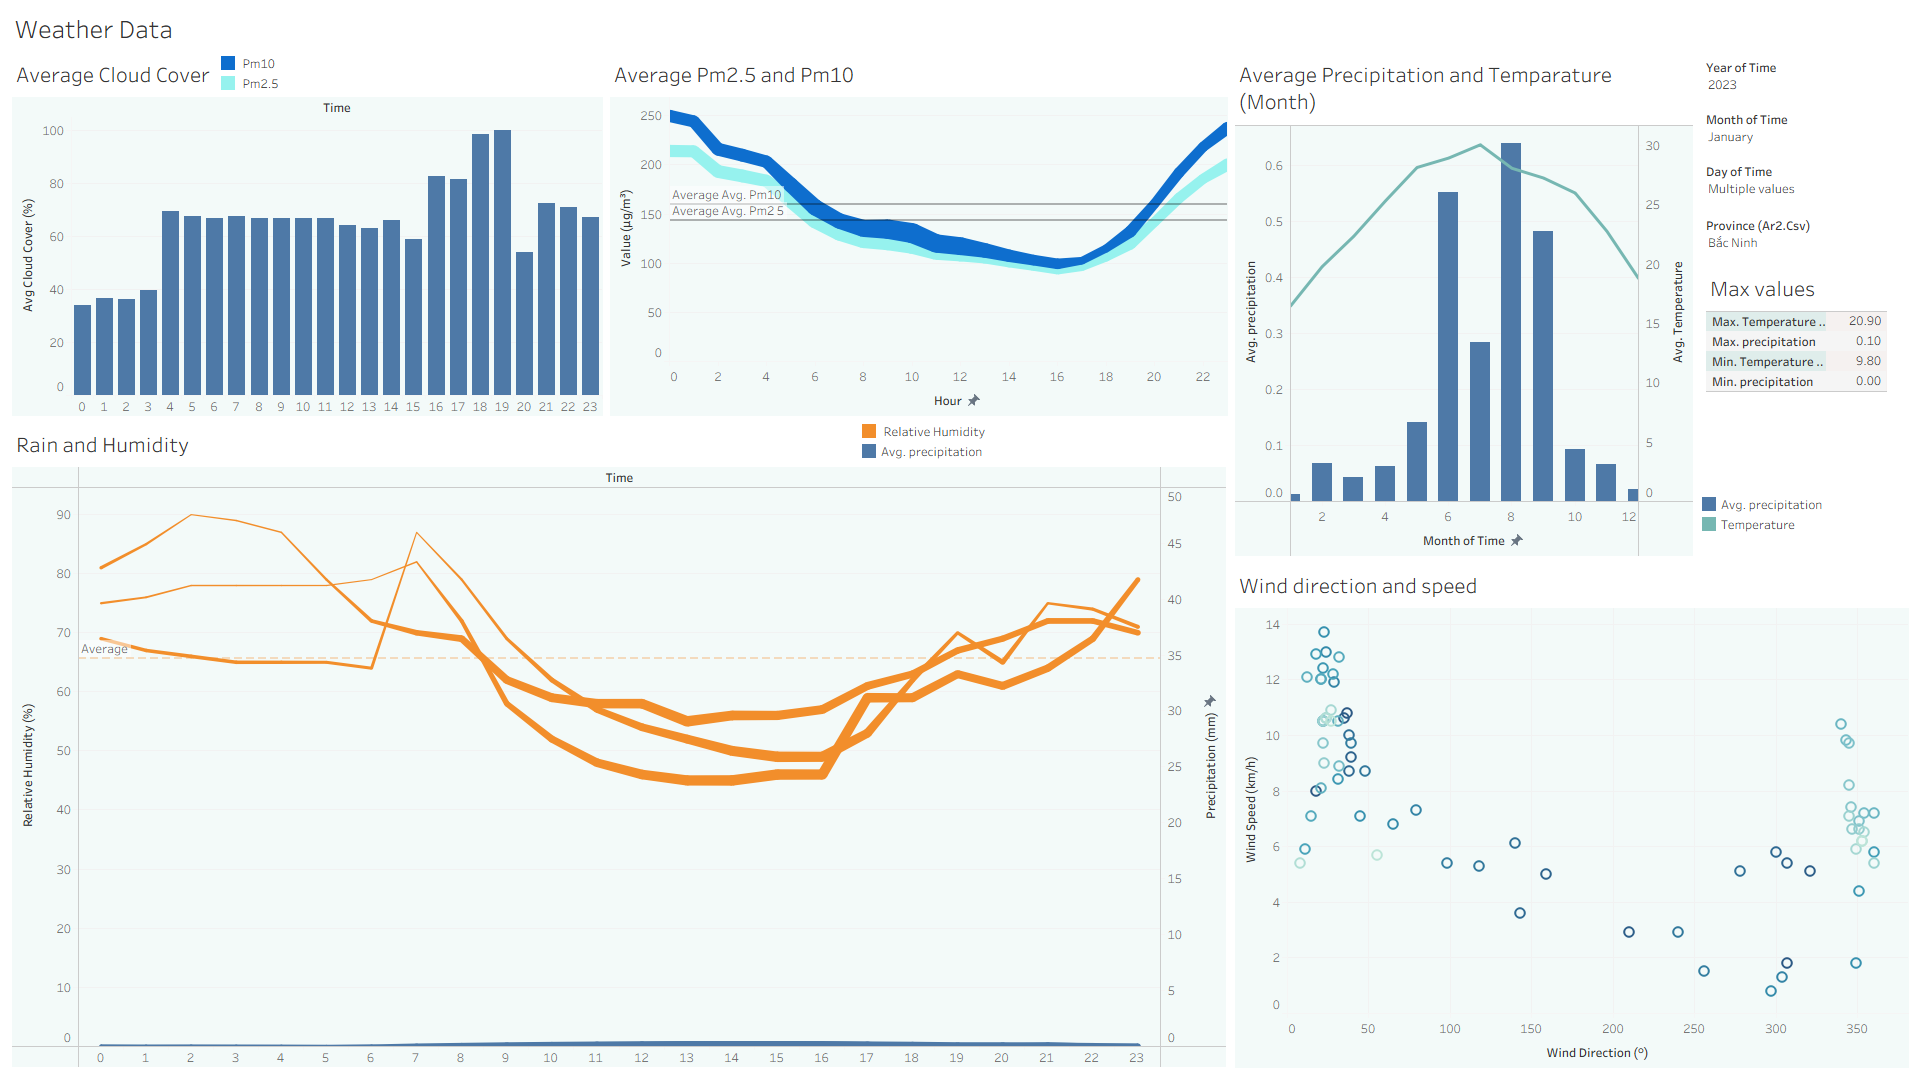

The dashboard page shown, as its layout file describes it:
{"tool":"tableau","page":{"name":"Dashboard 2","canvas":[1920,1080],"ordinal":0},"visuals":[{"type":"title","box":[8,8,1904,42]},{"type":"worksheet","title":"time series 1 (2)","mark":"Bar","rows":["cloud_cover"],"cols":["time"],"box":[8,50,598.5,369.8]},{"type":"worksheet","title":"pm","mark":"Automatic","cols":["time"],"box":[606.5,50,624.5,369.8]},{"type":"worksheet","title":"big average","mark":"Automatic","rows":["precipitation","temperature_2m"],"cols":["time"],"box":[1231,50,467,511]},{"type":"legend","title":"pm","param":"[federated.0rbkqbr0rq2c2w1b4mog512l6kth].[:Measure Names]","box":[218,53,145,42]},{"type":"filter","title":"big average","param":"[federated.0rbkqbr0rq2c2w1b4mog512l6kth].[yr:time:ok]","box":[1702,54,206,52]},{"type":"filter","title":"time series 1","param":"[federated.0rbkqbr0rq2c2w1b4mog512l6kth].[mn:time:ok]","box":[1702,106,206,52]},{"type":"filter","title":"pm","param":"[federated.0rbkqbr0rq2c2w1b4mog512l6kth].[dy:time:ok]","box":[1702,158,206,54]},{"type":"filter","title":"scater_plo","param":"[federated.0rbkqbr0rq2c2w1b4mog512l6kth].[none:province (ar2.csv):nk]","box":[1702,212,206,52]},{"type":"worksheet","title":"pm table","mark":"Automatic","box":[1702,264,206,230]},{"type":"worksheet","title":"time series 1","mark":"Automatic","rows":["relative_humidity_2m","precipitation"],"cols":["time"],"box":[8,419.8,1223,652.2]},{"type":"legend","title":"time series 1","param":"[federated.0rbkqbr0rq2c2w1b4mog512l6kth].[:Measure Names]","box":[859,421,140,46]},{"type":"legend","title":"big average","param":"[federated.0rbkqbr0rq2c2w1b4mog512l6kth].[:Measure Names]","box":[1699,494,140,63]},{"type":"filter","title":"big average","param":"[federated.0rbkqbr0rq2c2w1b4mog512l6kth].[none:country (ar2.csv):nk]","box":[1702,494,206,26]},{"type":"worksheet","title":"scater_plo","mark":"Automatic","rows":["wind_speed_10m"],"cols":["wind_direction_10m"],"box":[1231,561,681,511]}]}

Visuals, with their boxes in screenshot pixels (x1, y1, x2, y2), scaled from the page's 1920x1080 canvas onto the 1920x1080 screenshot:
title: (x1=8, y1=8, x2=1912, y2=50)
"time series 1 (2)" worksheet (Bar marks): (x1=8, y1=50, x2=606, y2=420)
"pm" worksheet: (x1=606, y1=50, x2=1231, y2=420)
"big average" worksheet: (x1=1231, y1=50, x2=1698, y2=561)
"pm" legend: (x1=218, y1=53, x2=363, y2=95)
"big average" filter: (x1=1702, y1=54, x2=1908, y2=106)
"time series 1" filter: (x1=1702, y1=106, x2=1908, y2=158)
"pm" filter: (x1=1702, y1=158, x2=1908, y2=212)
"scater_plo" filter: (x1=1702, y1=212, x2=1908, y2=264)
"pm table" worksheet: (x1=1702, y1=264, x2=1908, y2=494)
"time series 1" worksheet: (x1=8, y1=420, x2=1231, y2=1072)
"time series 1" legend: (x1=859, y1=421, x2=999, y2=467)
"big average" legend: (x1=1699, y1=494, x2=1839, y2=557)
"big average" filter: (x1=1702, y1=494, x2=1908, y2=520)
"scater_plo" worksheet: (x1=1231, y1=561, x2=1912, y2=1072)
